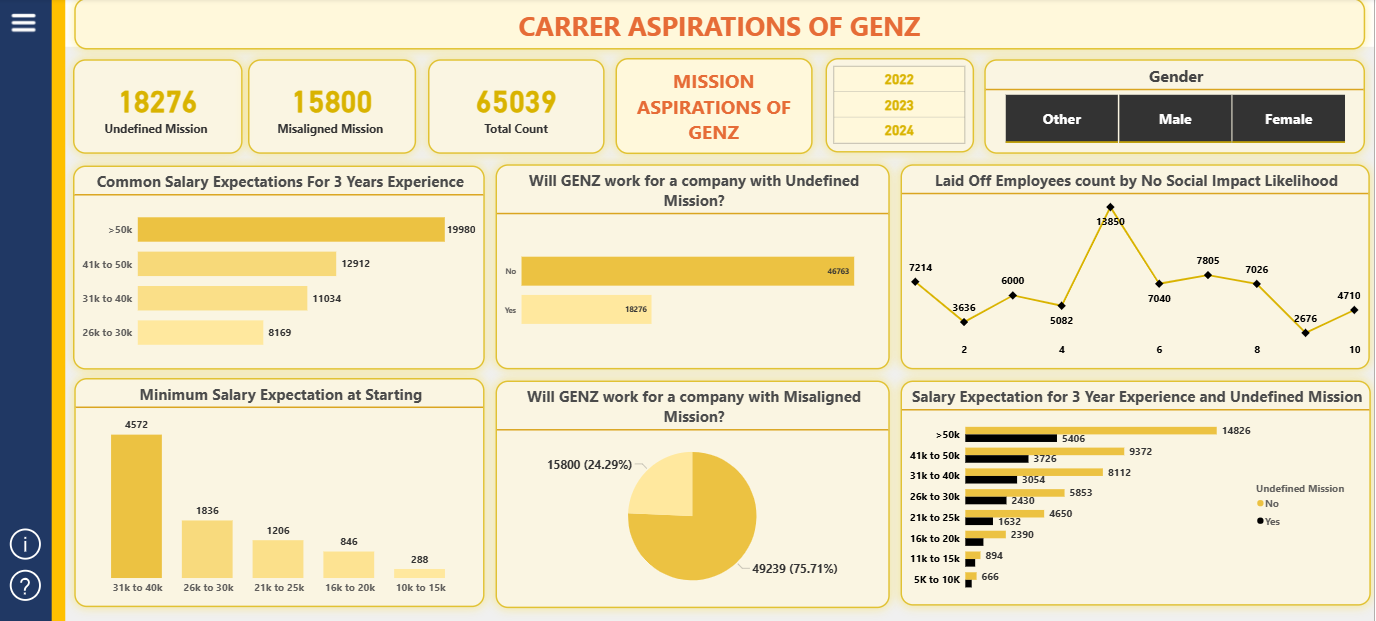

The page's visual inventory and layout, read from the dashboard file:
{"tool":"powerbi","page":{"name":"Mission Aspirations","canvas":[2200,1000],"ordinal":0},"visuals":[{"type":"shape","title":"Man","box":[122,0,2064,82],"z":0},{"type":"actionButton","title":"Q/A","box":[12,908.3,64.1,63.4],"z":0,"group":"g1"},{"type":"card","title":"Minimum Salary Expectation at Starting","fields":{"Values":["Dax Measures.Undefined Mission Preference"]},"box":[120,97.8,271.1,151.1],"z":1000},{"type":"actionButton","title":"Info","box":[12,841.3,64.1,63.4],"z":1000,"group":"g1"},{"type":"actionButton","title":"Menu","box":[16.9,14,55.1,49.9],"z":2000,"group":"g1"},{"type":"barChart","title":"Common Salary Expectations For 3 Years Experience","fields":{"Category":["Career Aspirations.Min Salary (First 3 Years)"],"Y":["Dax Measures.Pin Code"]},"box":[120,268,658,326],"z":2000},{"type":"columnChart","title":"Minimum Salary Expectation at Starting","fields":{"Y":["Dax Measures.Total Count"],"Category":["Career Aspirations.Starting Salary Expectation"]},"box":[122,608,656,366],"z":3000},{"type":"pieChart","title":"Will GENZ work for a company with Misaligned Mission?","fields":{"Y":["Dax Measures.Total Count"],"Category":["Career Aspirations.Mission-Action and Product Alignment Gap"]},"box":[796,612,630,364],"z":4000},{"type":"group","id":"g1","title":"Menu Bar","box":[12,14,64,958],"z":6000},{"type":"card","title":"Minimum Salary Expectation at Starting","fields":{"Values":["Dax Measures.Total Count"]},"box":[686.7,97.8,282.2,151.1],"z":7000},{"type":"clusteredBarChart","title":"Salary Expectation for 3 Year Experience and Undefined Mission","fields":{"Category":["Career Aspirations.Min Salary (First 3 Years)"],"Series":["Career Aspirations.Undefined Mission Preference"],"Y":["Dax Measures.Total Count"]},"box":[1442,612,752,360],"z":8000},{"type":"card","title":"Minimum Salary Expectation at Starting","fields":{"Values":["Dax Measures.Misaligned Mission preference"]},"box":[400,97.8,268.9,151.1],"z":9000},{"type":"barChart","title":"Will GENZ work for a company with Undefined Mission?","fields":{"Y":["Dax Measures.Total Count"],"Category":["Career Aspirations.Undefined Mission Preference"]},"box":[796,266,630,328],"z":10000},{"type":"slicer","title":"Gender","fields":{"Values":["Career Aspirations. Gender"]},"box":[1577.8,97.8,608.9,151.1],"z":11000},{"type":"advancedSlicerVisual","title":"Minimum Salary Expectation at Starting","fields":{"Values":["Career Aspirations.Date.Variation.Date Hierarchy.Year"]},"box":[1322.2,95.6,237.8,151.1],"z":12000},{"type":"lineChart","title":"Laid Off Employees count by No Social Impact Likelihood","fields":{"Category":["Career Aspirations.Willingness to Work for Non-Social Impact Companies"],"Y":["CountNonNull(Career Aspirations.Willing to Work After Layoffs)"]},"box":[1442,266,750,328],"z":13000},{"type":"shape","box":[986.7,95.6,315.6,153.3],"z":14000}]}

Visuals, with their boxes on the page's 2200x1000 design canvas (x1, y1, x2, y2). These are canvas units, not pixel positions in the 1376x621 screenshot, which may show the page scaled, cropped or inside an application window:
"Man" shape: (122, 0, 2186, 82)
"Q/A" actionButton: (12, 908, 76, 972)
"Minimum Salary Expectation at Starting" card: (120, 98, 391, 249)
"Info" actionButton: (12, 841, 76, 905)
"Menu" actionButton: (17, 14, 72, 64)
"Common Salary Expectations For 3 Years Experience" barChart: (120, 268, 778, 594)
"Minimum Salary Expectation at Starting" columnChart: (122, 608, 778, 974)
"Will GENZ work for a company with Misaligned Mission?" pieChart: (796, 612, 1426, 976)
"Menu Bar" group: (12, 14, 76, 972)
"Minimum Salary Expectation at Starting" card: (687, 98, 969, 249)
"Salary Expectation for 3 Year Experience and Undefined Mission" clusteredBarChart: (1442, 612, 2194, 972)
"Minimum Salary Expectation at Starting" card: (400, 98, 669, 249)
"Will GENZ work for a company with Undefined Mission?" barChart: (796, 266, 1426, 594)
"Gender" slicer: (1578, 98, 2187, 249)
"Minimum Salary Expectation at Starting" advancedSlicerVisual: (1322, 96, 1560, 247)
"Laid Off Employees count by No Social Impact Likelihood" lineChart: (1442, 266, 2192, 594)
shape: (987, 96, 1302, 249)
